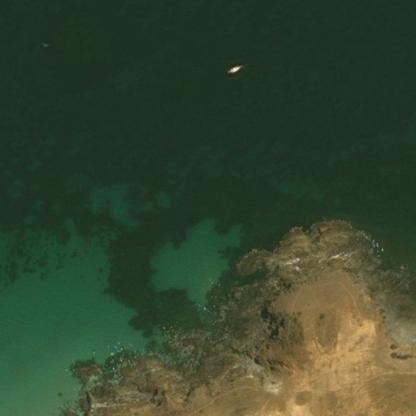ship: (221, 57, 245, 76)
